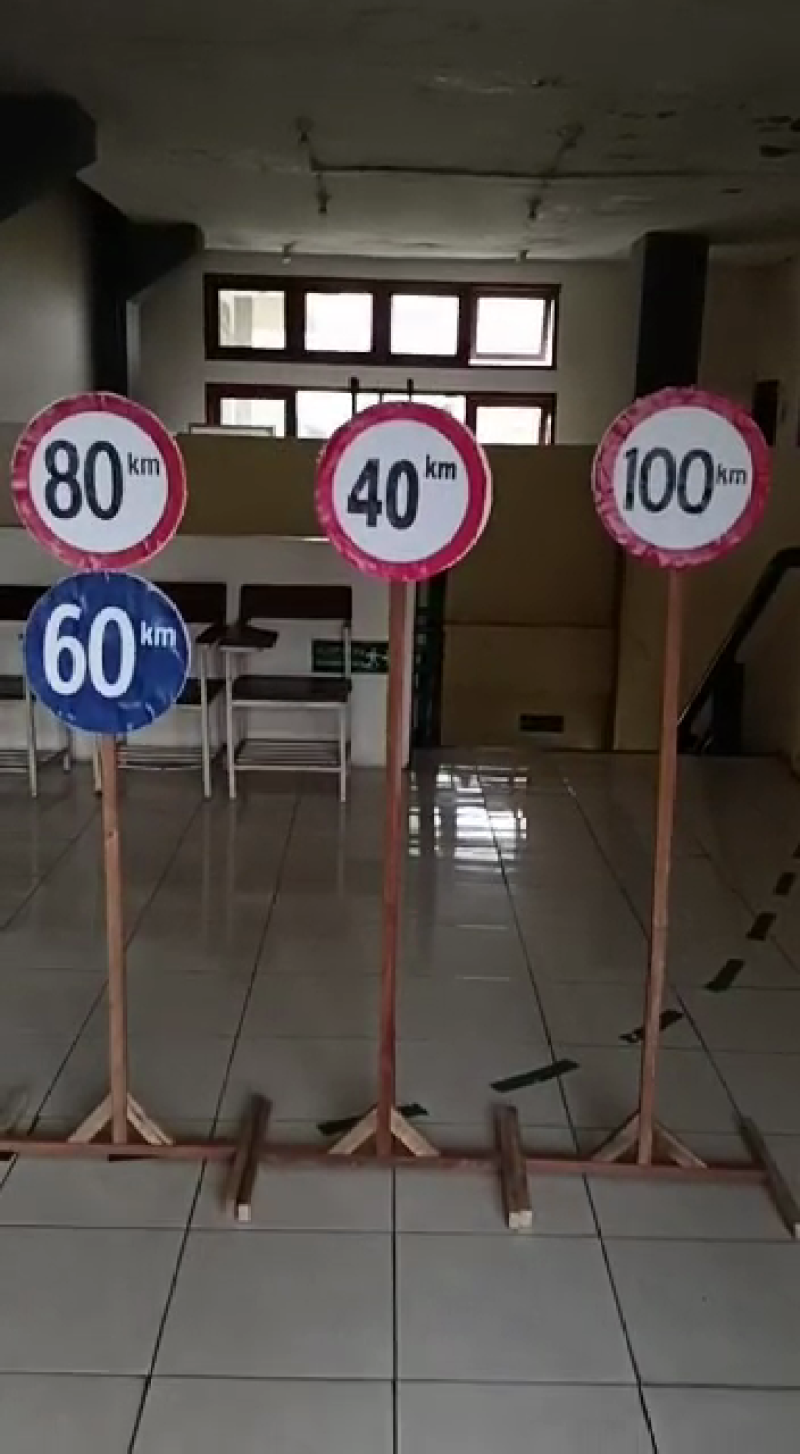batas maksimal 100kmperjam: (581, 379, 779, 577)
batas maksimal 40kmperjam: (303, 392, 500, 598)
batas maksimal 80kmperjam minimal 60kmperjam: (1, 379, 200, 746)
